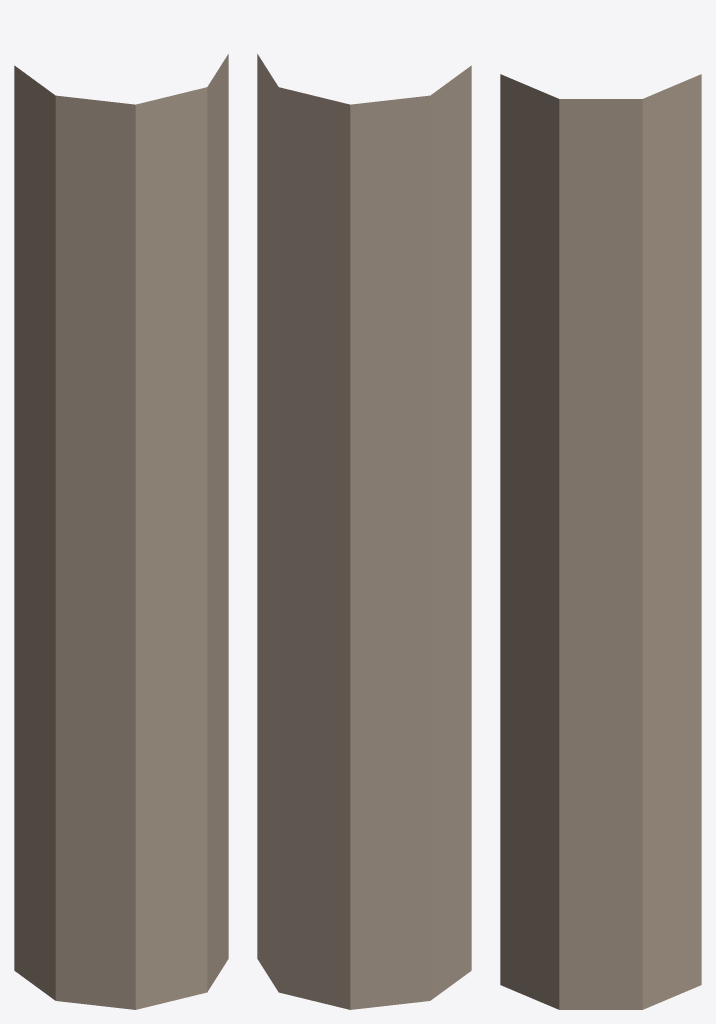
Rendered from Hilly_Prop_Bridge_Log_Post_Support.glb.
3 renders of one model, left to right at view 1: azimuth 30°, elevation 25°; view 2: azimuth 150°, elevation 25°; view 3: azimuth 270°, elevation 25°, orthographic.
Visible parts, largest first — view 1: Hilly_Prop_Bridge_Log_Post_Support; view 2: Hilly_Prop_Bridge_Log_Post_Support; view 3: Hilly_Prop_Bridge_Log_Post_Support.
Part boxes in pixels (box(x1,y1,x2,y2)): Hilly_Prop_Bridge_Log_Post_Support: box(14, 54, 228, 1009); Hilly_Prop_Bridge_Log_Post_Support: box(257, 54, 471, 1009); Hilly_Prop_Bridge_Log_Post_Support: box(500, 74, 701, 1009).
Bounding box in the file's own units: 0.2 × 1 × 0.2.
